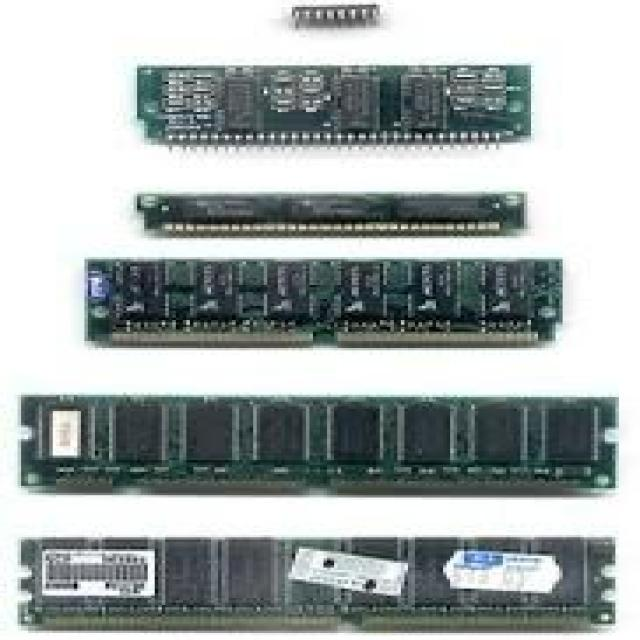Ram: (46, 20, 615, 640)
